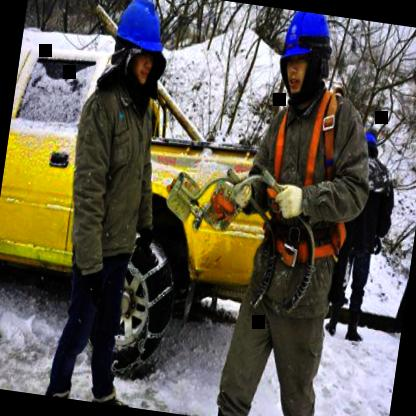helmet: (106, 0, 173, 103), (274, 9, 336, 108)
